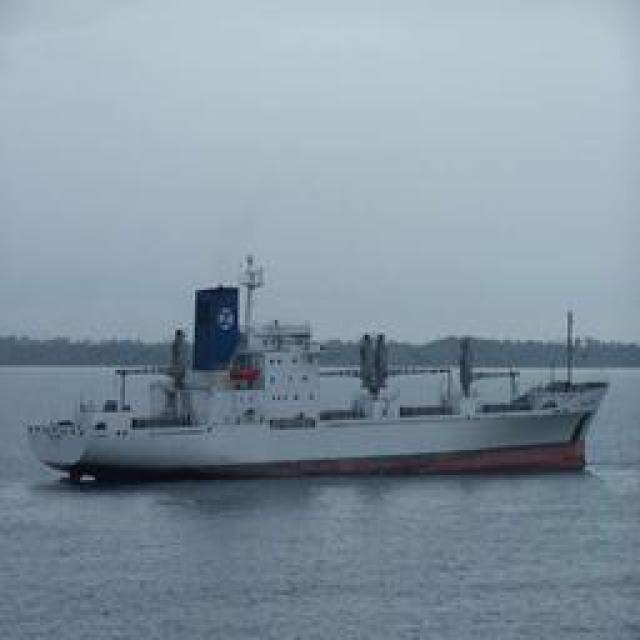Ship: (31, 358, 604, 486)
